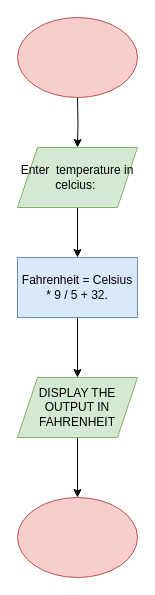
The diagram is 155 pixels wide and 595 high, and some of its shapes have lost their labels. Here are the shapes that lost their labels. From the top down, the box of each, then its label:
(16, 16, 138, 98): START
(16, 496, 138, 578): END
